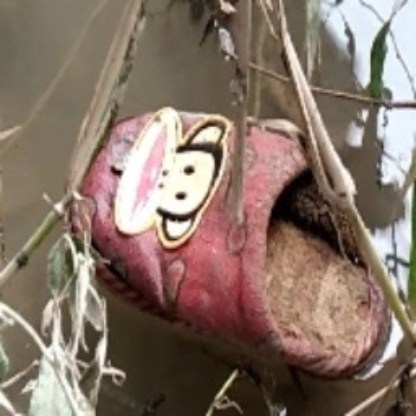plastic-garbage: (76, 109, 396, 373)
